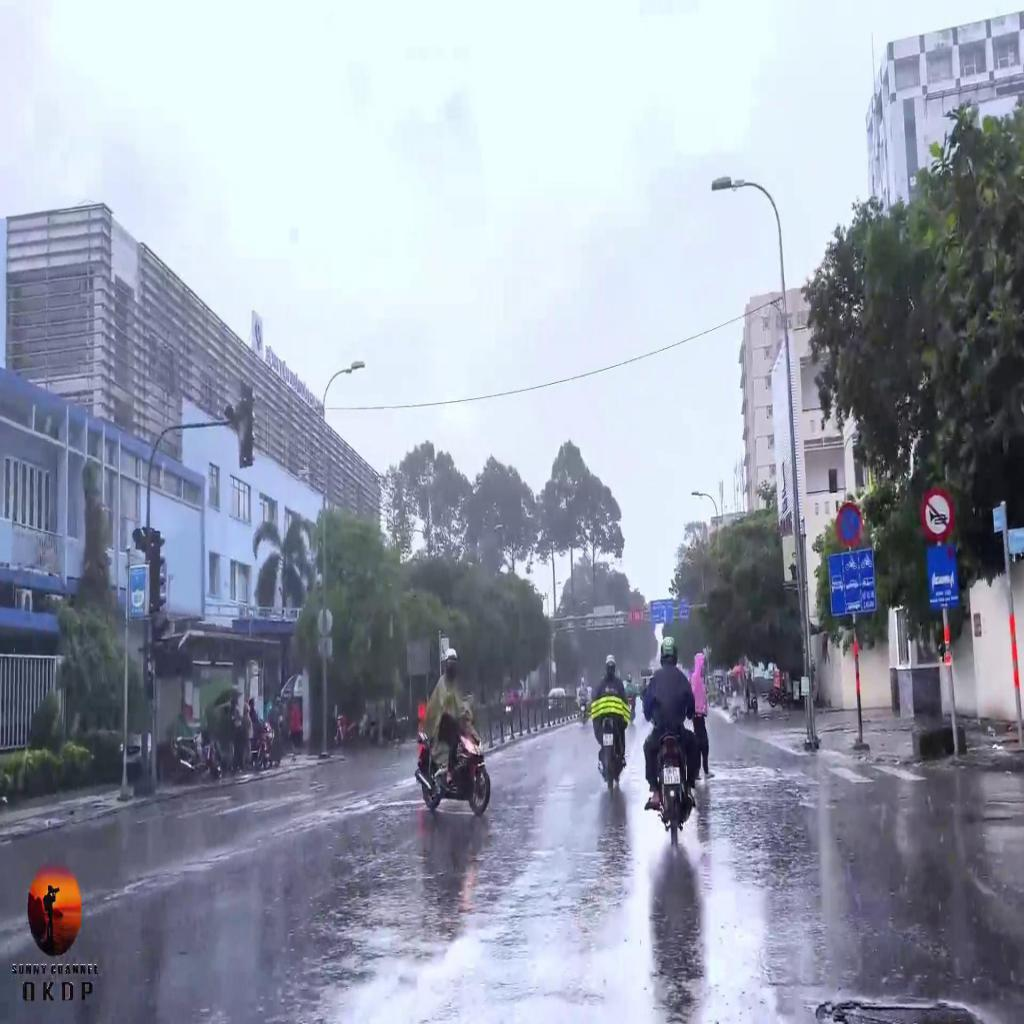cam_do_xe: (836, 498, 863, 547)
cam_su_dung_coi: (920, 484, 954, 546)
khac: (925, 535, 961, 612), (650, 596, 674, 626)
lan_duong_cho_tung_xe_theo_vach_ke_duong: (828, 548, 878, 619)
